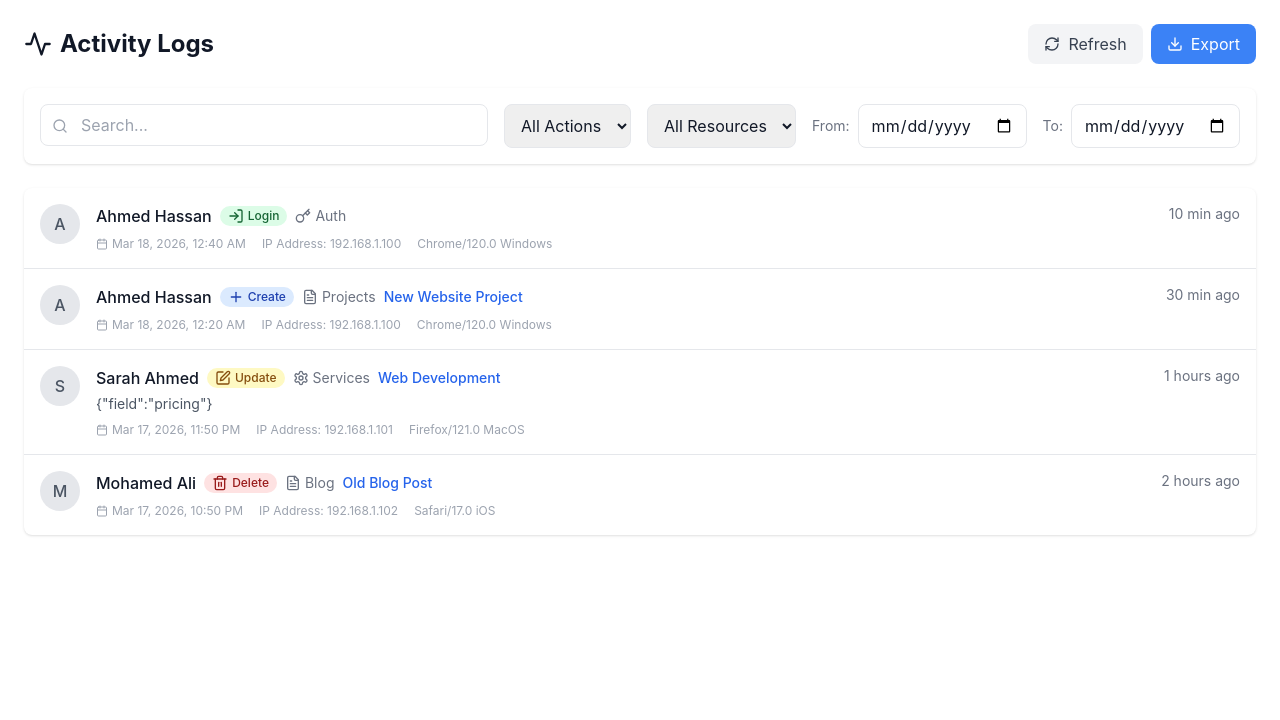
Test case: Activity Logs Page › Empty State › shows empty state when no logs match filter
Step 1. Type "xyz123nonexistent" into the field with placeholder "Search..." → [264, 125], box 40,104 -> 488,146
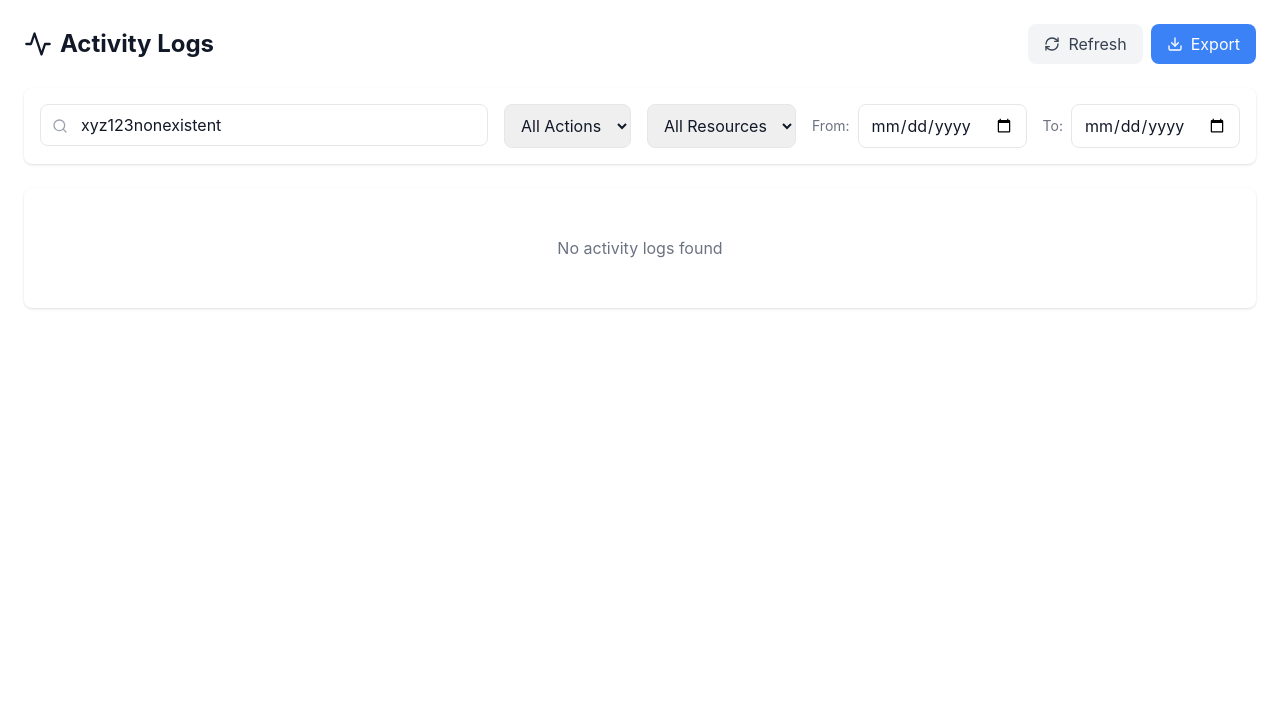
Expected: the text "No activity logs found" is shown, 557,238 -> 723,258
